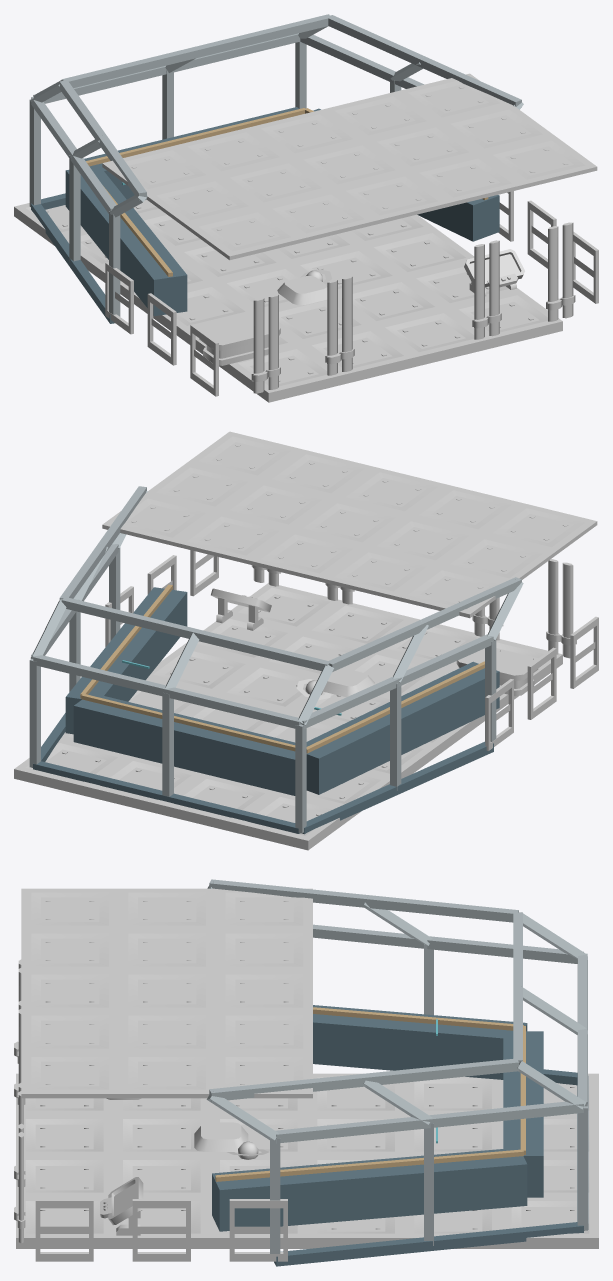
Rendered from 03-faceted-bridge.glb.
3 views of the same model, one above another, from view 1: azimuth 30°, elevation 25°; view 2: azimuth 150°, elevation 25°; view 3: azimuth 270°, elevation 25° (orthographic). The views are drawn at different scales.
Visible parts, largest first — view 1: U_CONSOLE_SECTION_0, KIT_BRIDGE_FLOOR_12, KIT_REAR_CEILING_51, KIT_REAR_CEILING_55, KIT_REAR_CEILING_53, KIT_REAR_CEILING_54, KIT_REAR_CEILING_52, KIT_REAR_CEILING_56, ROOF_SPINE_41, KIT_BRIDGE_FLOOR_0, KIT_REAR_CEILING_59, KIT_REAR_CEILING_62 (+51 smaller); view 2: U_CONSOLE_SECTION_1, U_CONSOLE_SECTION_0, U_CONSOLE_SECTION_2, KIT_REAR_CEILING_64, KIT_REAR_CEILING_62, KIT_REAR_CEILING_63, KIT_REAR_CEILING_51, UPPER_BOW_FRAME_40, ROOF_SPINE_41, KIT_REAR_CEILING_56, KIT_BRIDGE_FLOOR_11, KIT_REAR_CEILING_53 (+58 smaller); view 3: U_CONSOLE_SECTION_2, U_CONSOLE_SECTION_0, KIT_REAR_CEILING_55, KIT_REAR_CEILING_60, LOWER_BOW_FRAME_48, KIT_REAR_CEILING_51, KIT_REAR_CEILING_52, KIT_REAR_CEILING_53, KIT_REAR_CEILING_54, KIT_REAR_CEILING_57, KIT_REAR_CEILING_58, KIT_REAR_CEILING_59 (+54 smaller).
Part boxes in pixels (x1,y1,x2,y2): U_CONSOLE_SECTION_0: [65, 167, 187, 316]; KIT_BRIDGE_FLOOR_12: [373, 308, 489, 366]; KIT_REAR_CEILING_51: [187, 207, 303, 260]; KIT_REAR_CEILING_55: [482, 135, 597, 188]; KIT_REAR_CEILING_53: [334, 171, 450, 224]; KIT_REAR_CEILING_54: [408, 153, 523, 206]; KIT_REAR_CEILING_52: [261, 189, 376, 242]; KIT_REAR_CEILING_56: [147, 176, 260, 228]; ROOF_SPINE_41: [61, 14, 330, 88]; KIT_BRIDGE_FLOOR_0: [226, 344, 342, 402]; KIT_REAR_CEILING_59: [365, 122, 480, 171]; KIT_REAR_CEILING_62: [176, 127, 291, 176]; U_CONSOLE_SECTION_1: [73, 693, 295, 795]; U_CONSOLE_SECTION_0: [306, 661, 499, 794]; U_CONSOLE_SECTION_2: [65, 587, 187, 734]; KIT_REAR_CEILING_64: [175, 511, 291, 564]; KIT_REAR_CEILING_62: [323, 547, 438, 599]; KIT_REAR_CEILING_63: [249, 529, 364, 582]; KIT_REAR_CEILING_51: [482, 503, 597, 555]; UPPER_BOW_FRAME_40: [33, 655, 300, 728]; ROOF_SPINE_41: [61, 597, 330, 671]; KIT_REAR_CEILING_56: [439, 534, 554, 581]; KIT_BRIDGE_FLOOR_11: [161, 774, 276, 832]; KIT_REAR_CEILING_53: [334, 467, 449, 516]; U_CONSOLE_SECTION_2: [212, 1149, 527, 1231]; U_CONSOLE_SECTION_0: [313, 1005, 527, 1079]; KIT_REAR_CEILING_55: [21, 1052, 118, 1098]; KIT_REAR_CEILING_60: [118, 1052, 215, 1098]; LOWER_BOW_FRAME_48: [274, 1222, 583, 1266]; KIT_REAR_CEILING_51: [21, 888, 118, 929]; KIT_REAR_CEILING_52: [21, 929, 118, 970]; KIT_REAR_CEILING_53: [21, 970, 118, 1011]; KIT_REAR_CEILING_54: [21, 1011, 118, 1052]; KIT_REAR_CEILING_57: [118, 929, 215, 970]; KIT_REAR_CEILING_58: [118, 970, 215, 1011]; KIT_REAR_CEILING_59: [118, 1011, 215, 1052].
Size of the model in its own units: 9.45 by 3.7 by 10.84.
